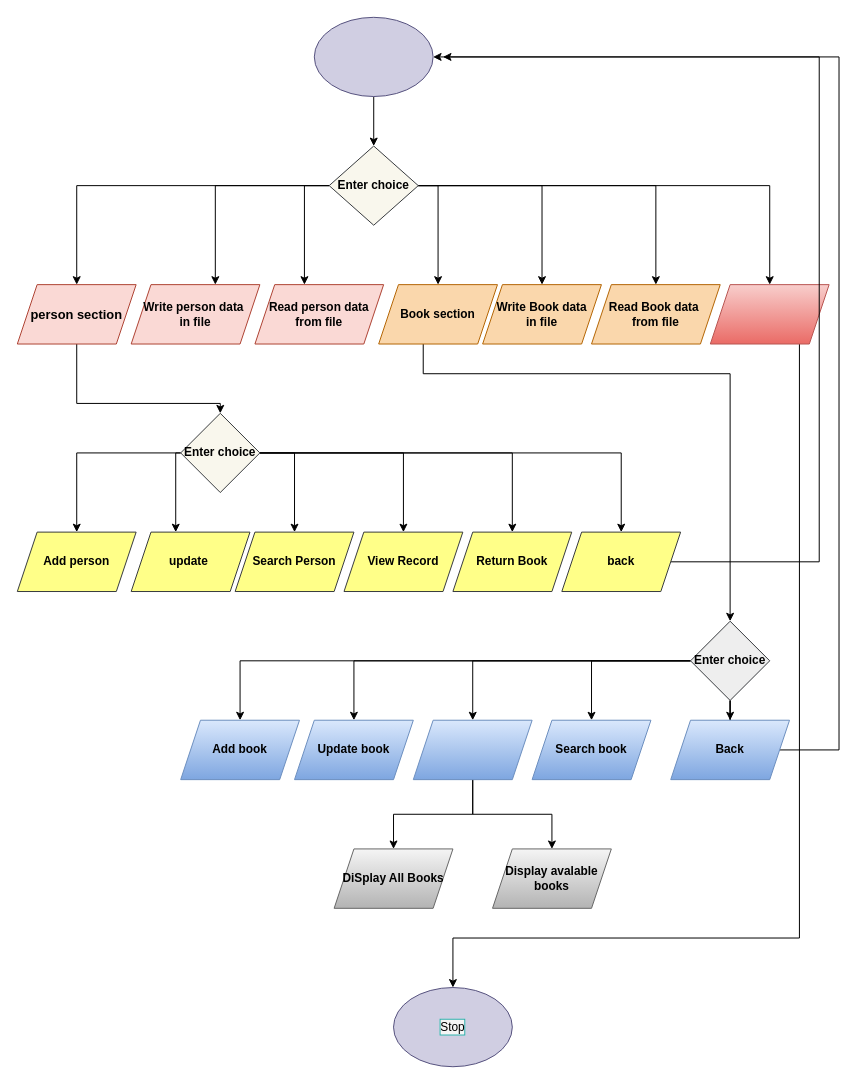
This 864x1084 diagram has some shape labels left out. The shapes that lost their labels are listed below. From the top down, each one's centre as x and y in pixels, then its label:
At point 373,56: "Start".
At point 769,314: "Exit".
At point 472,749: "Display book".
